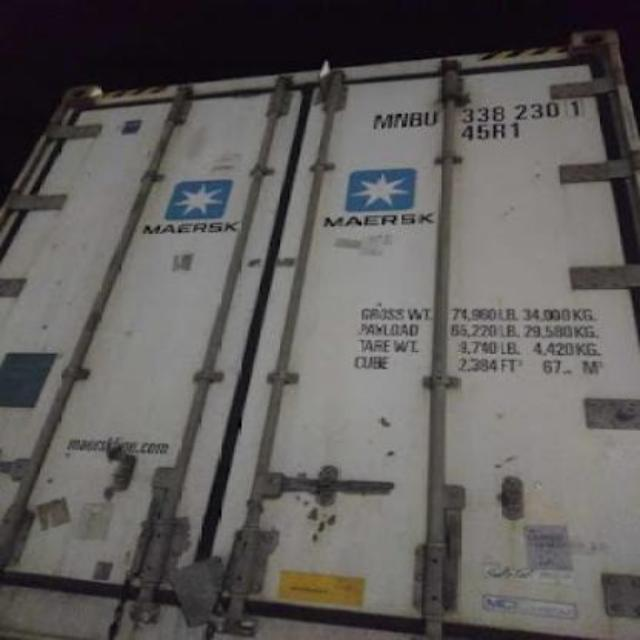0: (542, 95, 564, 119)
1: (568, 97, 586, 117)
2: (512, 100, 530, 122)
3: (456, 100, 476, 124), (530, 100, 544, 122), (478, 102, 490, 125)
8: (492, 100, 506, 124)
B: (408, 108, 422, 128)
M: (368, 106, 389, 132)
N: (392, 108, 408, 134)
U: (418, 105, 442, 131)
